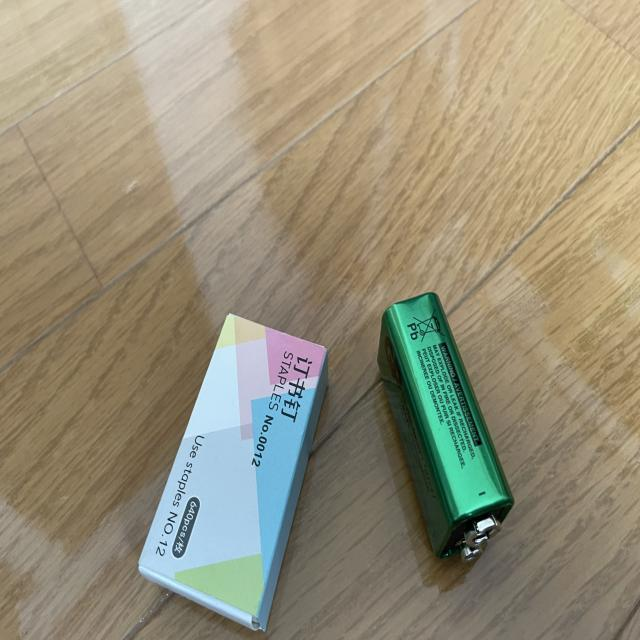9V: (376, 290, 514, 564)
